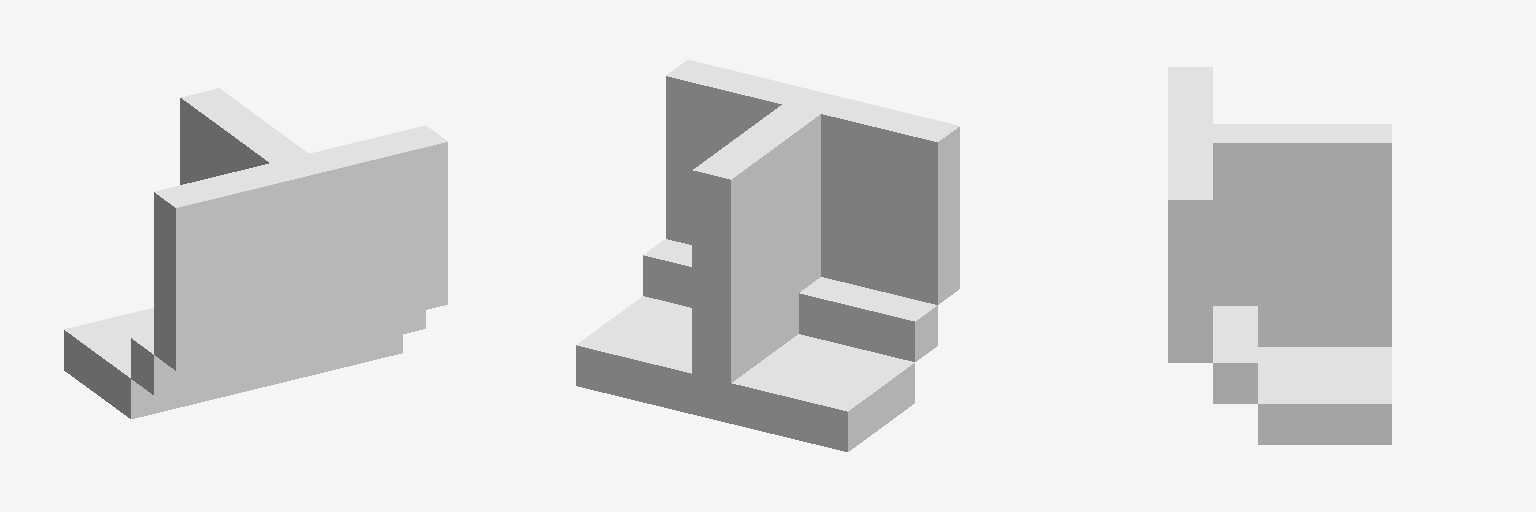
The model's file is environ-12-rail2.obj.
3 views of the same model, side by side, from view 1: azimuth 30°, elevation 25°; view 2: azimuth 150°, elevation 25°; view 3: azimuth 270°, elevation 25° (orthographic).
Visible parts, largest first — view 1: rail2; view 2: rail2; view 3: rail2.
Boxes of the visible parts, x1=… form: rail2: x1=64, y1=88, x2=447, y2=418; rail2: x1=576, y1=60, x2=959, y2=451; rail2: x1=1168, y1=67, x2=1391, y2=444.
Bounding box in the file's own units: 0.7 × 0.6 × 0.5.